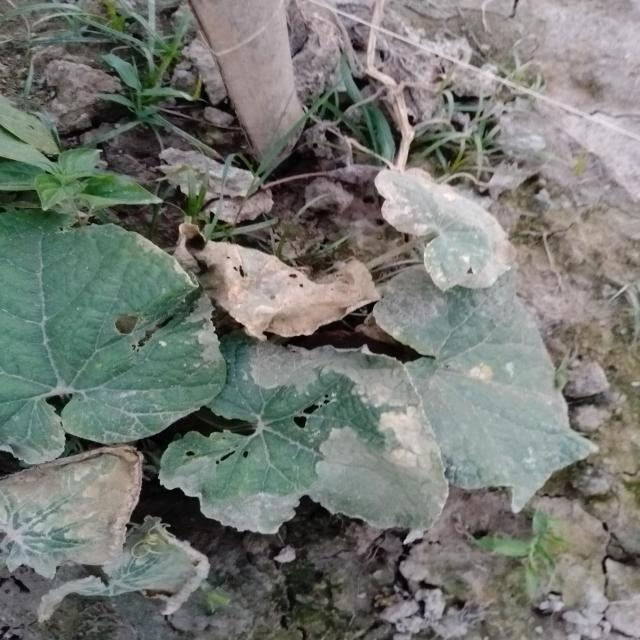cucumber_bacterial: (0, 207, 224, 474), (363, 276, 606, 510), (158, 348, 448, 544), (3, 461, 207, 637), (364, 129, 537, 306), (175, 207, 385, 340)
